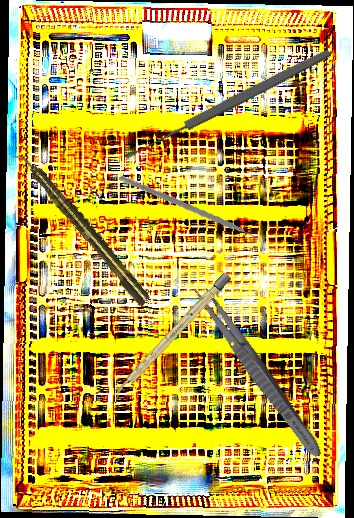Chopper: (118, 157, 266, 271)
Dressing Forceps: (187, 280, 328, 462)
Handpiece: (12, 146, 154, 309)
Scalpel Handle: (110, 271, 233, 401)
Surgical Spoon: (122, 46, 333, 163)
